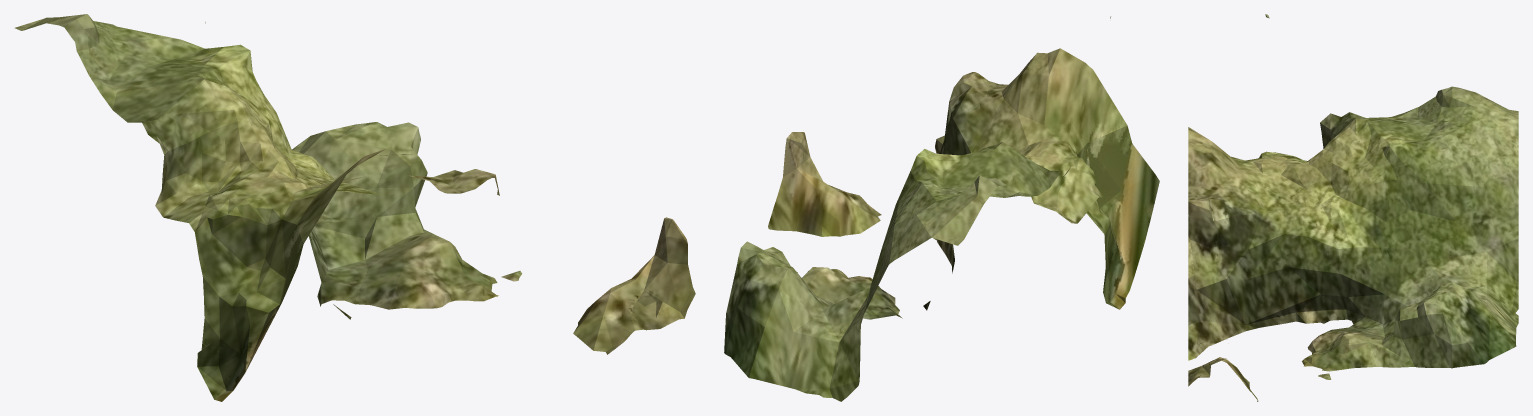
3 views of the same model, side by side, from view 1: azimuth 30°, elevation 25°; view 2: azimuth 150°, elevation 25°; view 3: azimuth 270°, elevation 25° (orthographic). The views are drawn at different scales.
Bounding box in the file's own units: 2.95 × 2.45 × 2.95.
Materials: 3 (3 with a texture image).
